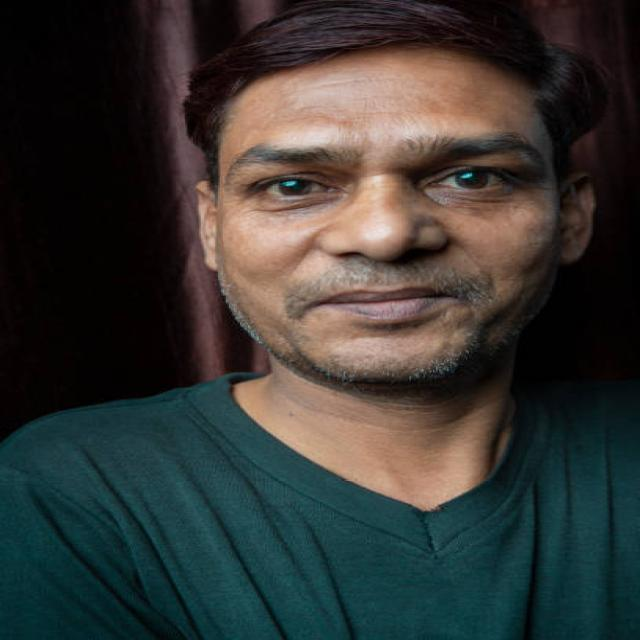moderate: (439, 183, 527, 210), (246, 198, 338, 216)
